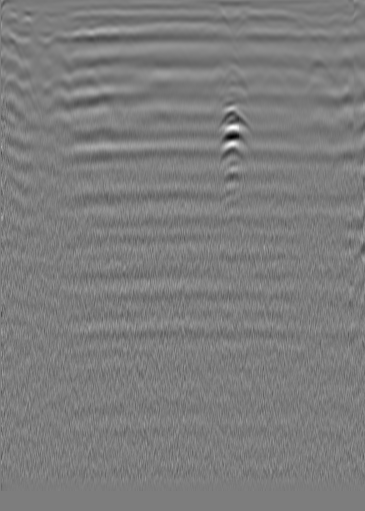가스: (213, 135, 258, 166)
상수: (311, 23, 331, 43)
오수: (26, 24, 46, 44)
우수: (170, 20, 190, 40)
